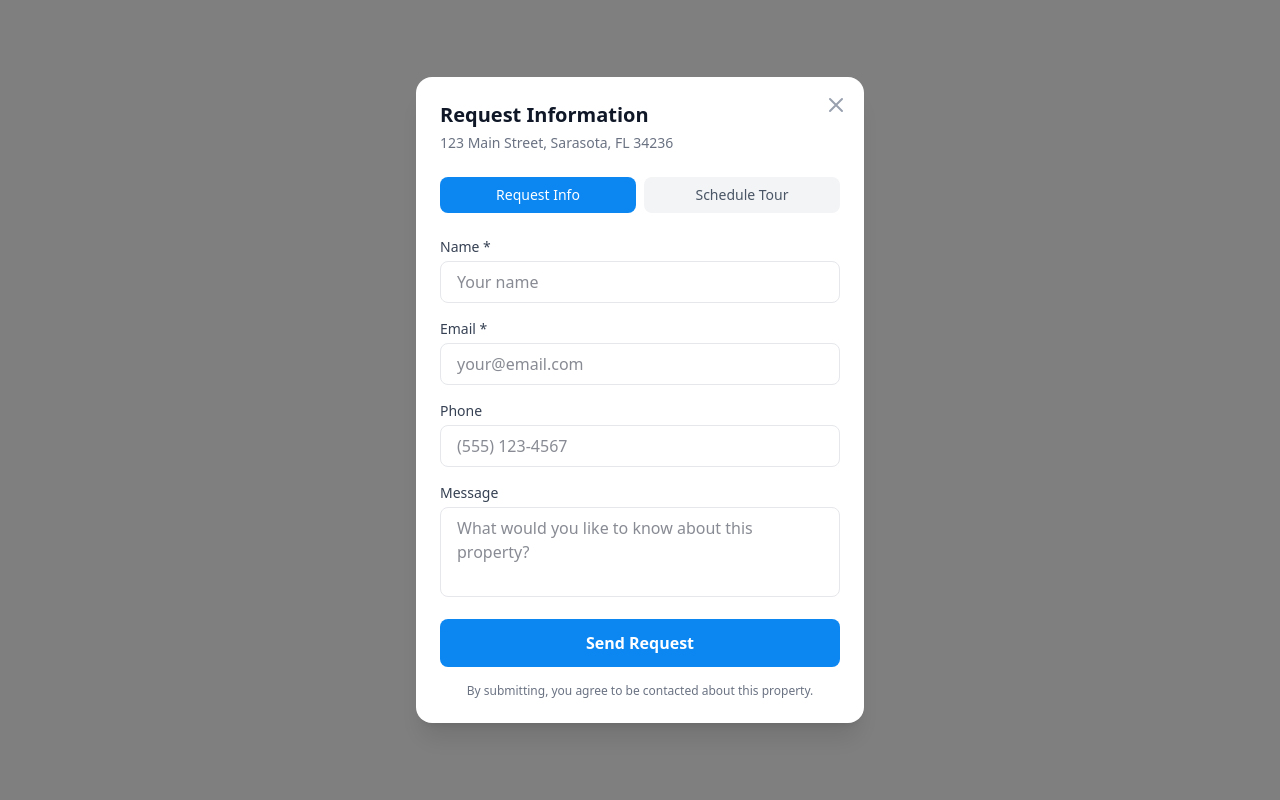
LeadCaptureModal › shows error message on API failure
Type "Jane Doe" into the field labelled "Name *".
click(640, 282); type("Jane Doe")  # box [440,261,840,303]
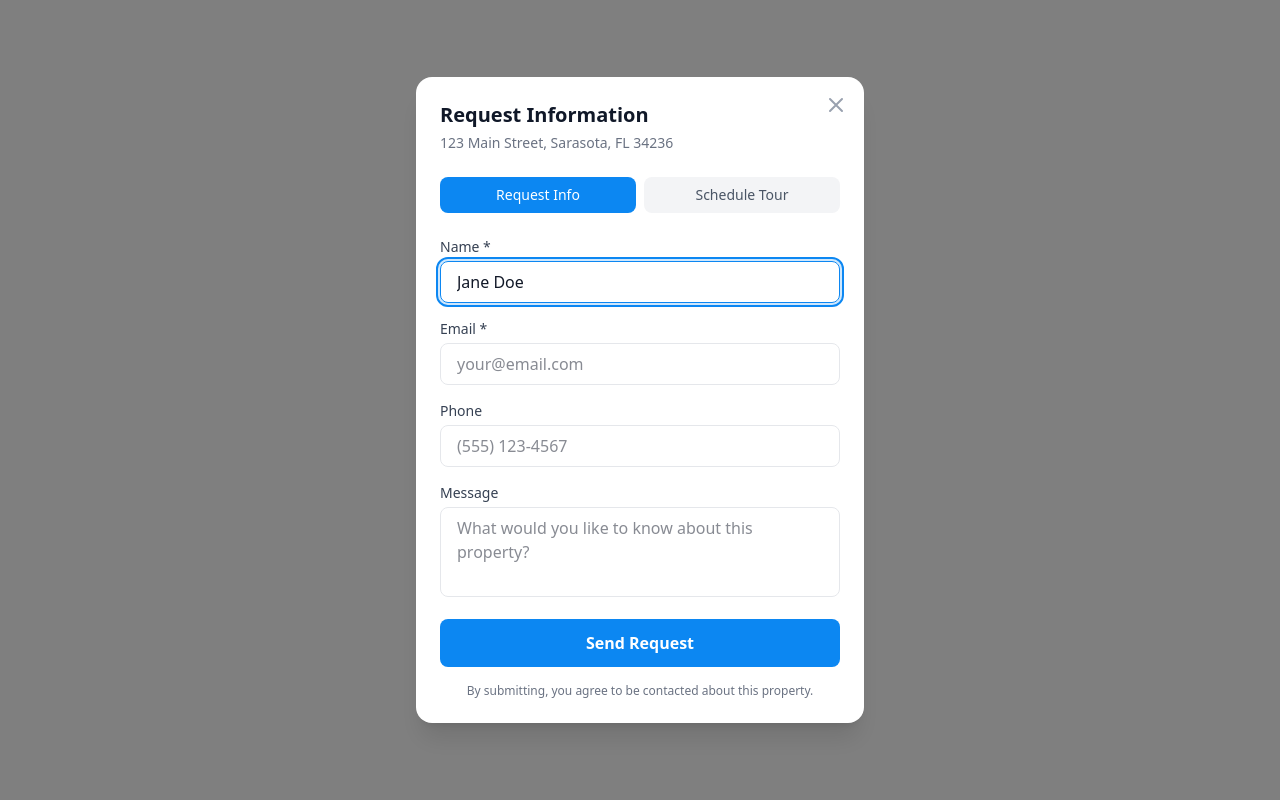
Type "jane@example.com" into the field labelled "Email *".
click(640, 364); type("jane@example.com")  # box [440,343,840,385]
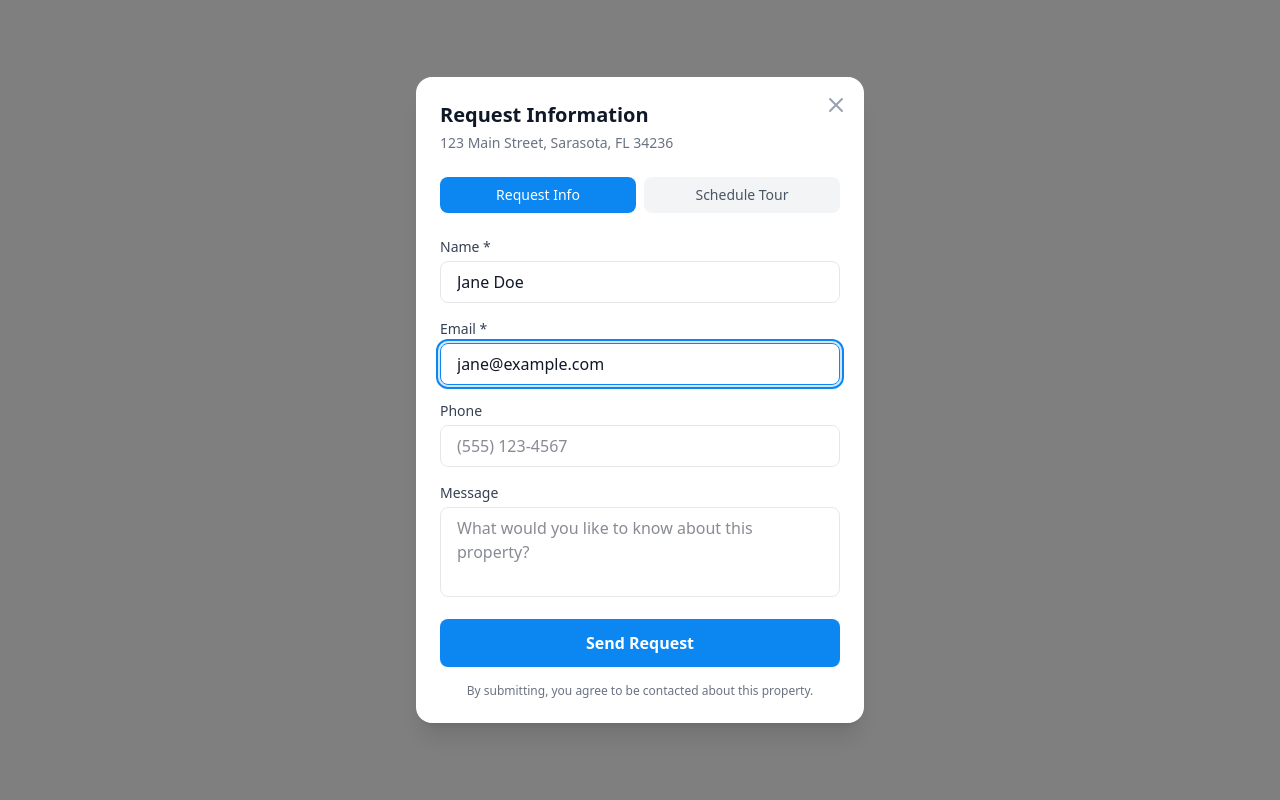
Click the button "Send Request".
click(640, 643)  # box [440,619,840,667]
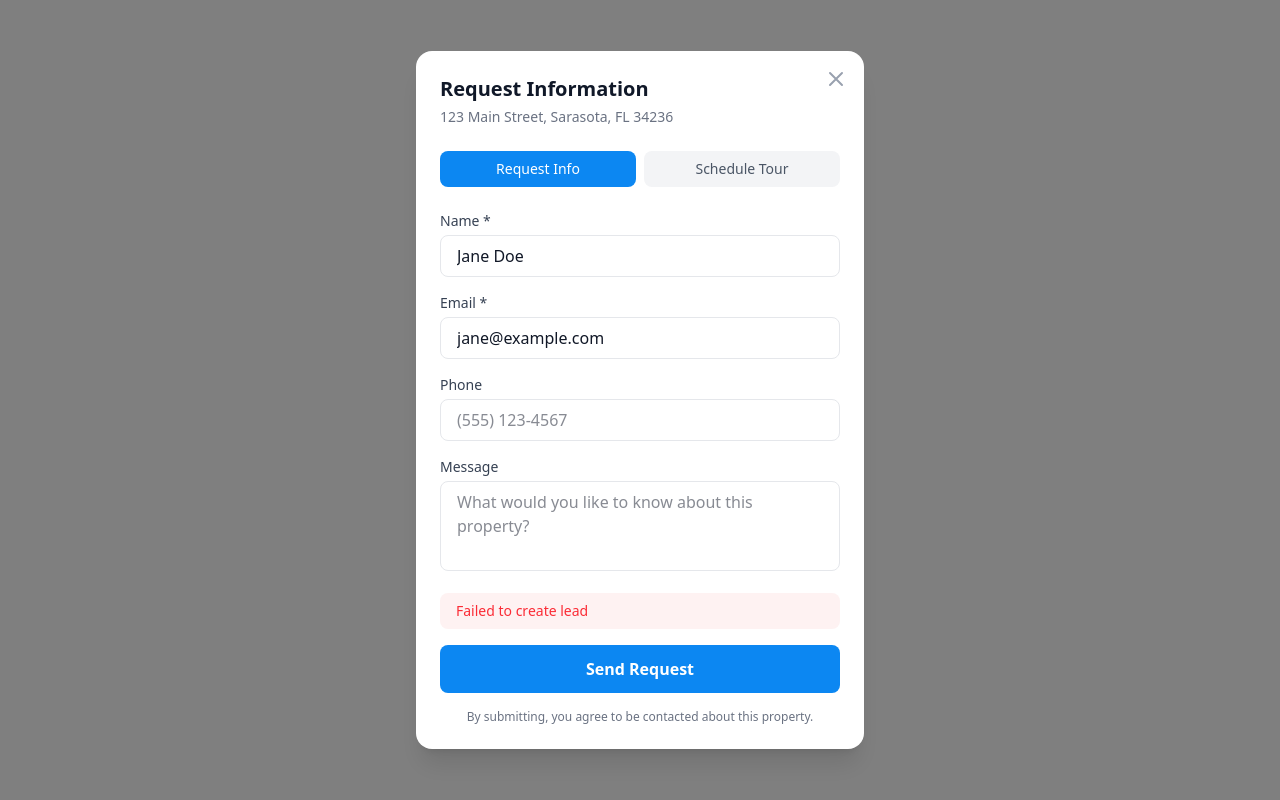
Result: the text "Failed to create lead" is shown at [440,593,840,629]
